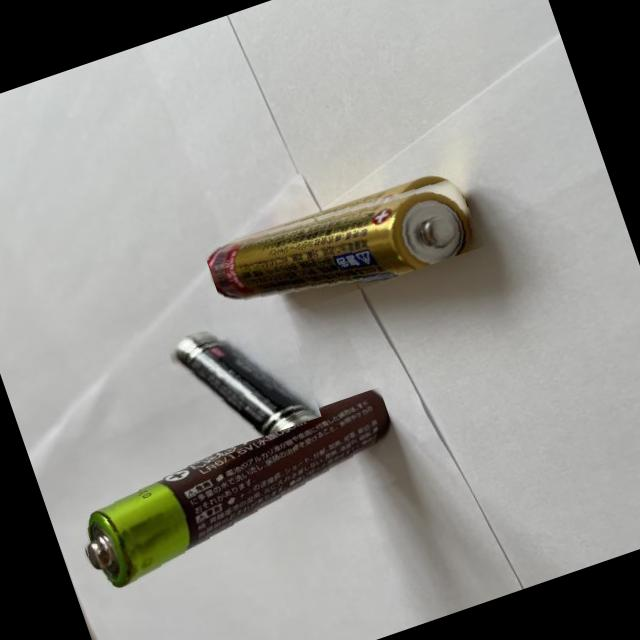Hazard: (65, 385, 412, 593), (202, 158, 486, 332), (165, 302, 321, 456)
